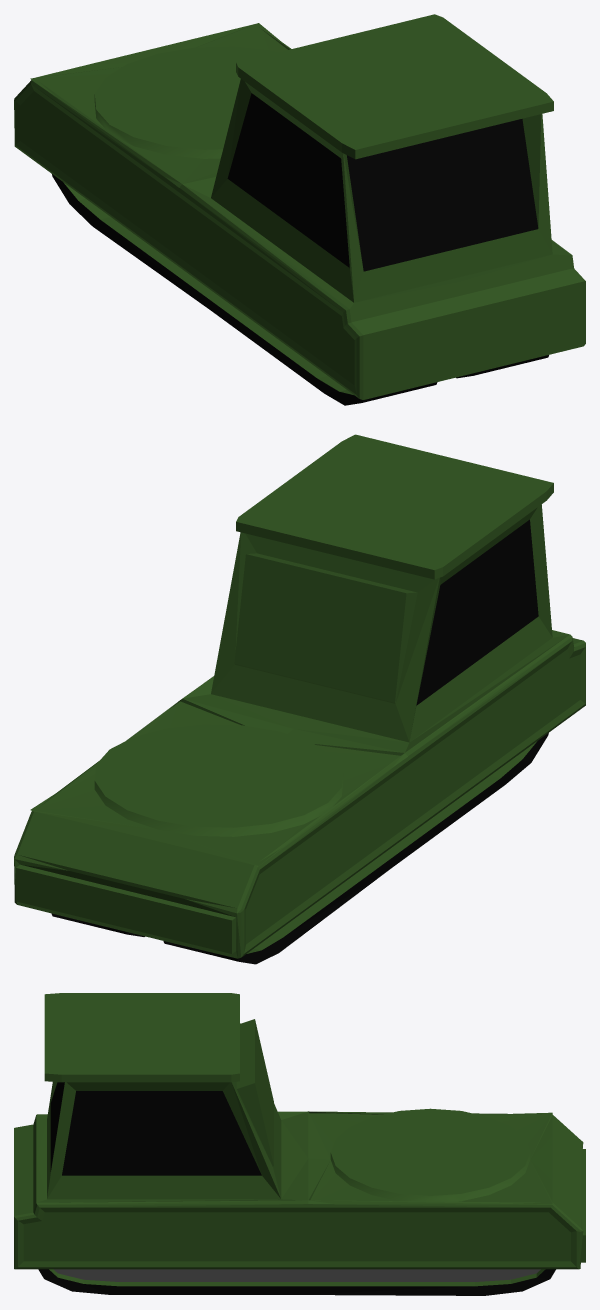
File: Tank_.fbx
3 renders of one model, top to bottom at view 1: azimuth 30°, elevation 25°; view 2: azimuth 150°, elevation 25°; view 3: azimuth 270°, elevation 25°, orthographic. The views are drawn at different scales.
Visible parts, largest first — view 1: Cube; view 2: Cube; view 3: Cube.
Part boxes in pixels (x1=…): Cube: x1=14, y1=14, x2=585, y2=405; Cube: x1=14, y1=434, x2=585, y2=964; Cube: x1=14, y1=993, x2=585, y2=1295.
Size of the model in its own units: 200 by 229 by 529.
